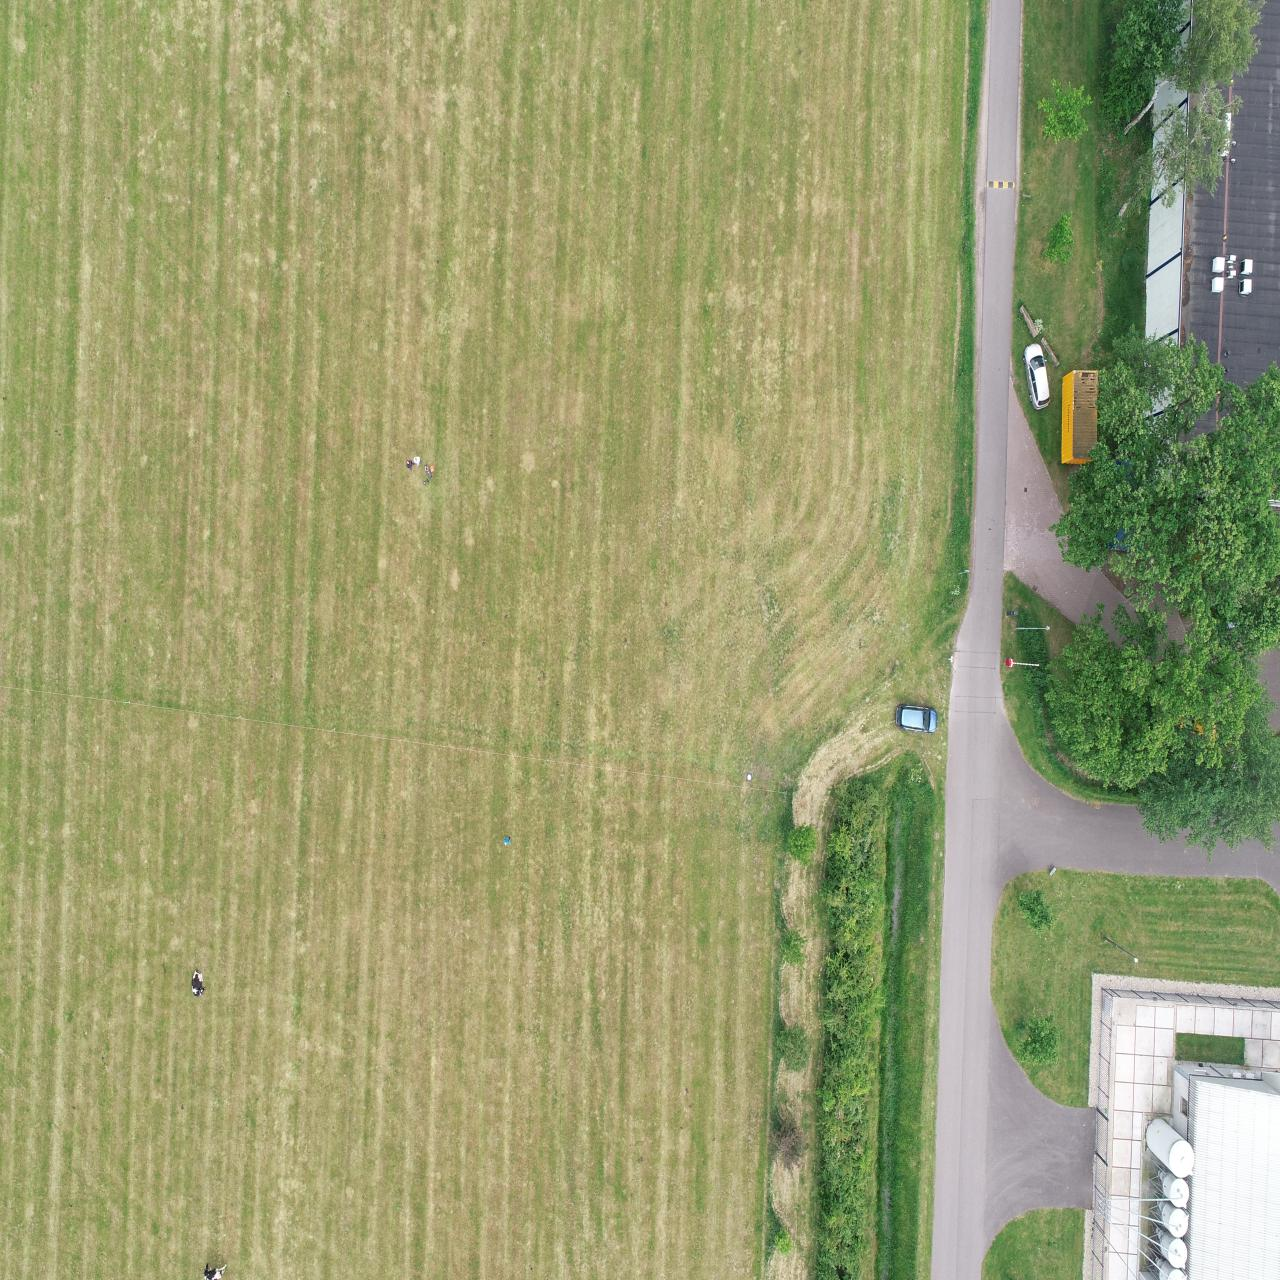cow: (190, 965, 205, 1000)
